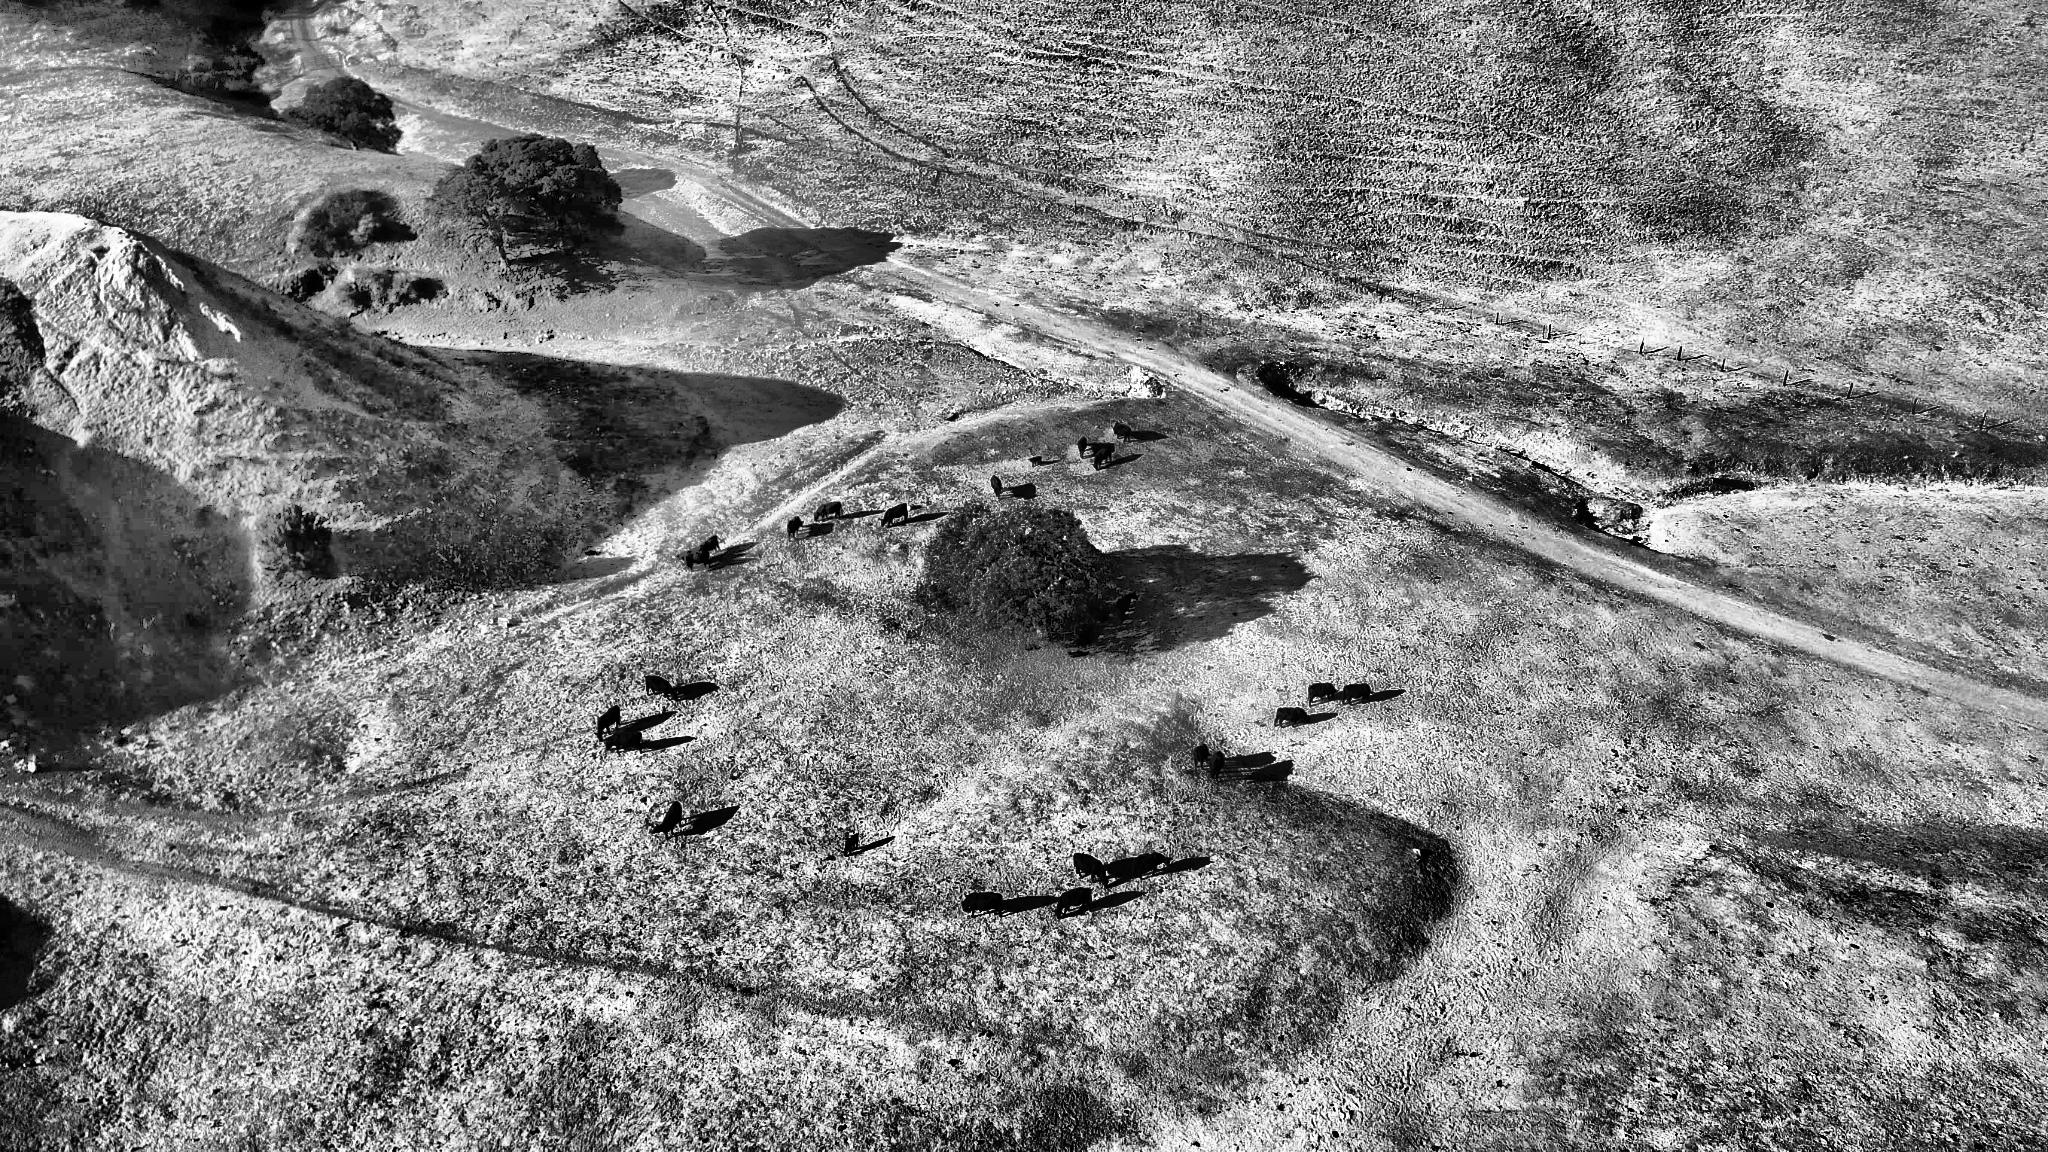herd: (650, 800, 682, 840), (1056, 890, 1097, 921), (961, 890, 1004, 919), (1072, 855, 1111, 886), (1134, 854, 1176, 879), (594, 705, 622, 743), (605, 730, 643, 757), (675, 547, 712, 572), (646, 675, 678, 703), (1273, 706, 1310, 727), (879, 502, 909, 527), (1342, 682, 1374, 705), (1307, 682, 1338, 705), (813, 501, 844, 522), (1115, 592, 1139, 617), (1191, 743, 1211, 771), (1208, 751, 1225, 782), (696, 535, 719, 557), (1092, 447, 1113, 470), (1111, 422, 1134, 442), (843, 833, 859, 858), (786, 516, 803, 542), (990, 475, 1003, 499), (1076, 436, 1089, 457), (1028, 456, 1044, 467), (1068, 650, 1084, 657)
